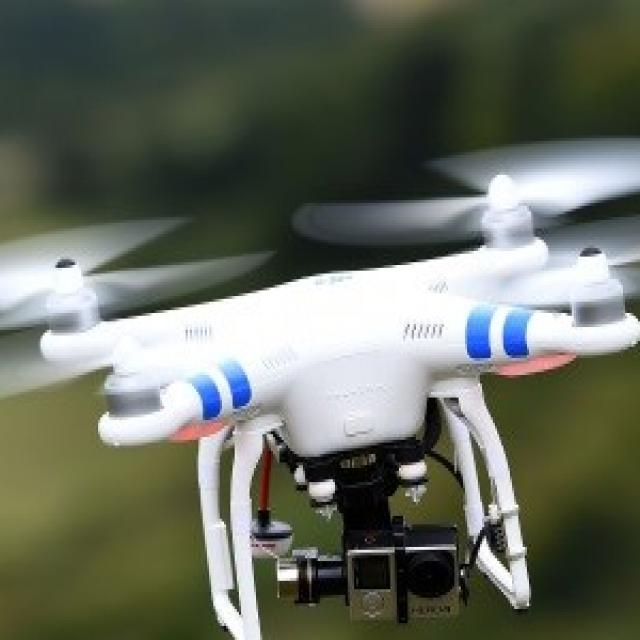drone: (0, 127, 640, 592)
